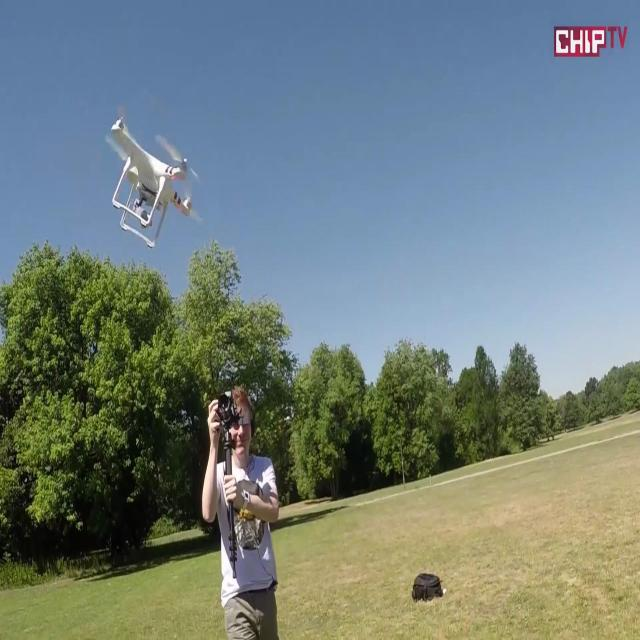drone: (108, 109, 200, 246)
